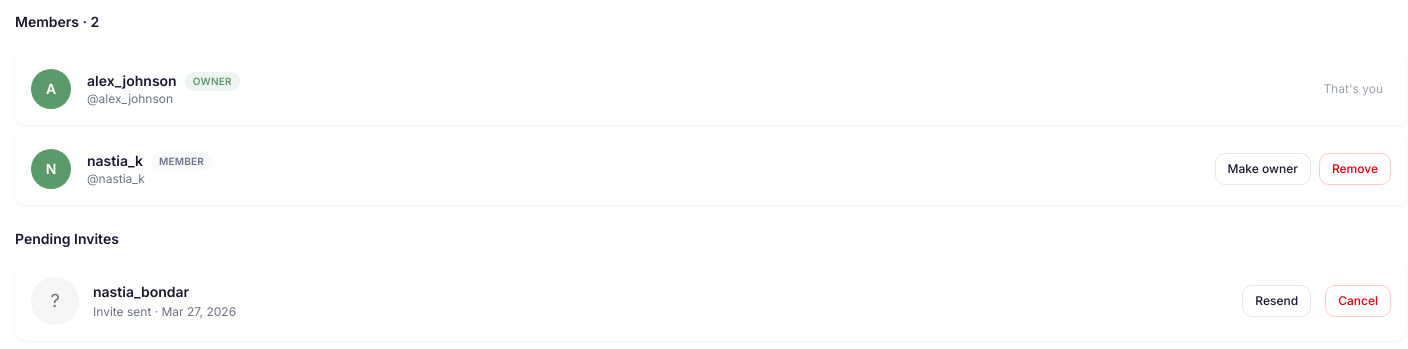
Test: LobbyMemberList › shows an inline error when resending an invite fails
Expected: the text "nastia_bondar" is shown, left=93, top=283, right=189, bottom=300
What coordinates should you click on to do the following:
click the button "Resend"
I would click on:
 (1277, 301)
Its box is left=1242, top=285, right=1311, bottom=317.
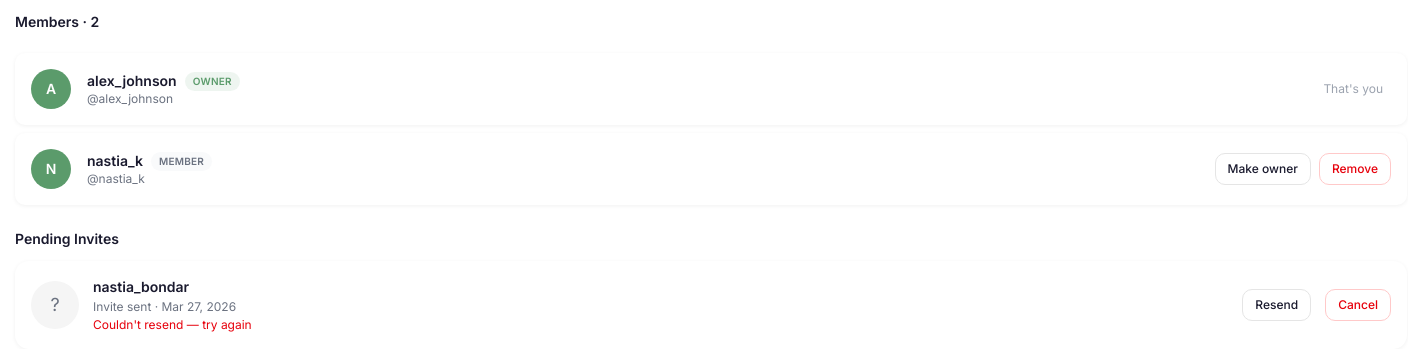
Result: the text "Couldn't resend — try again" is shown at left=93, top=317, right=252, bottom=332
